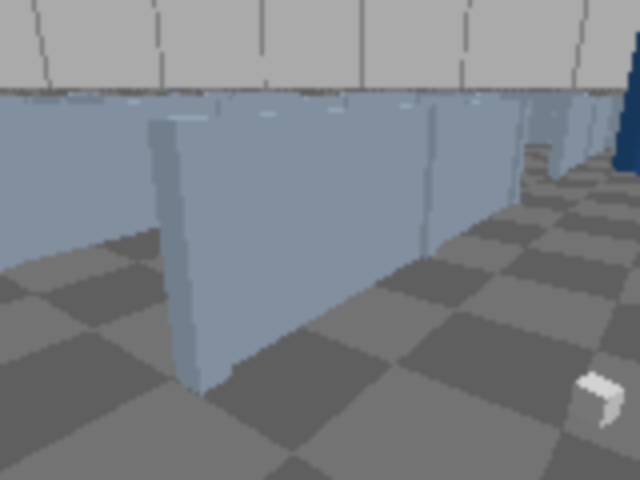person: (612, 0, 638, 175)
puck: (569, 372, 625, 429)
